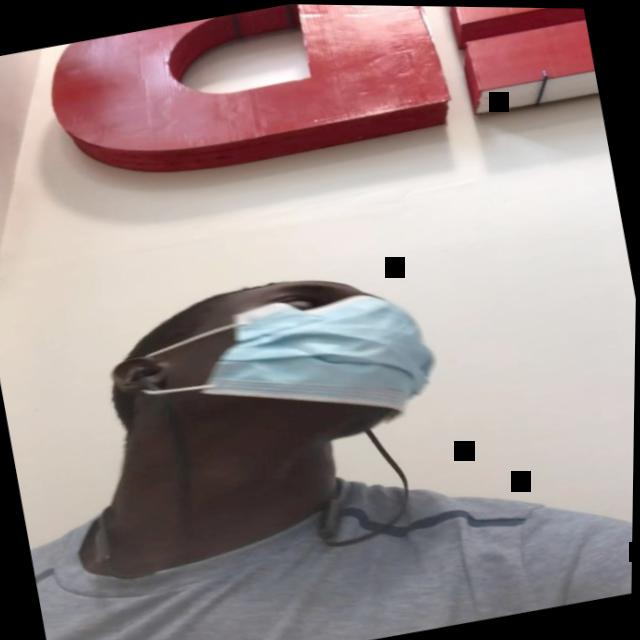Mask: (123, 253, 451, 475)
